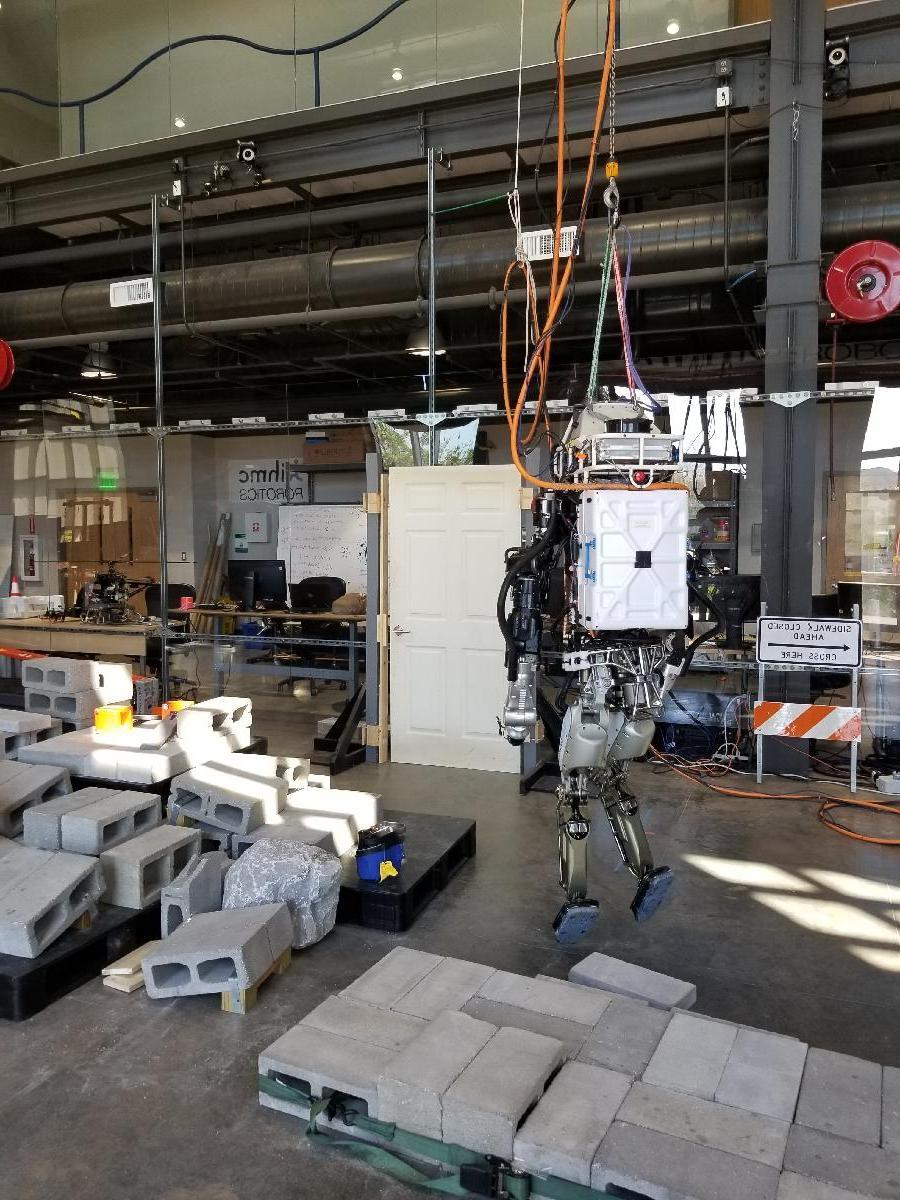door: (384, 463, 520, 775)
handle: (391, 625, 412, 638)
